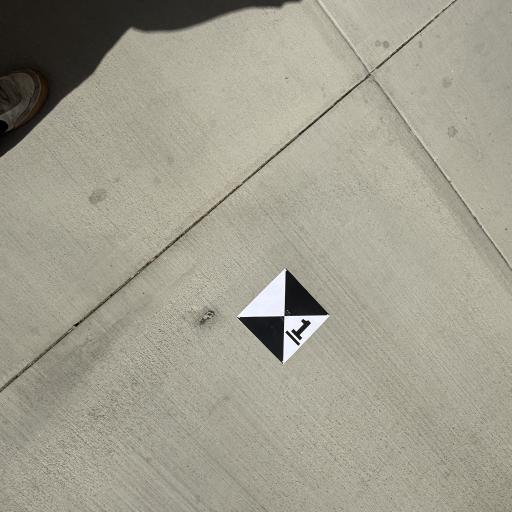target1: (234, 265, 334, 370)
